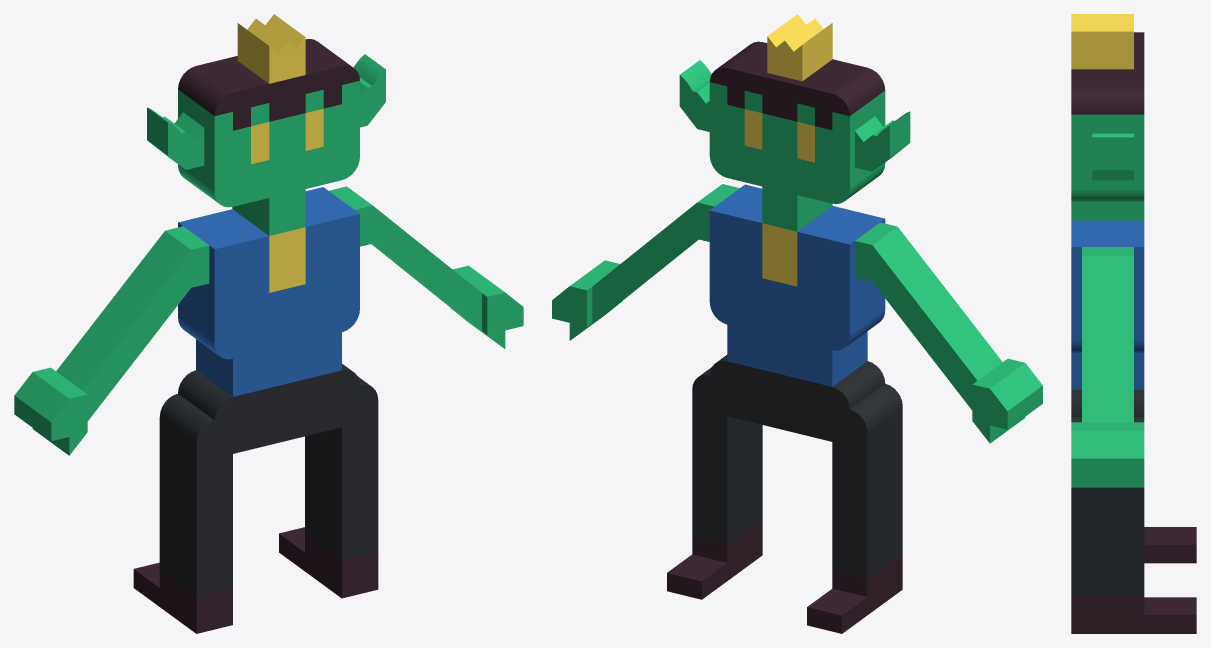
File: Gabbo_Glethan_2.fbx
3 renders of one model, left to right at view 1: azimuth 30°, elevation 25°; view 2: azimuth 150°, elevation 25°; view 3: azimuth 270°, elevation 25°, orthographic. The views are drawn at different scales.
Visible parts, largest first — view 1: generated; view 2: generated; view 3: generated.
Part boxes in pixels (x1,y1,x2,y2): generated: (14, 14, 523, 633); generated: (552, 14, 1042, 633); generated: (1071, 14, 1196, 633).
Size of the model in its own units: 260 by 300 by 60.
